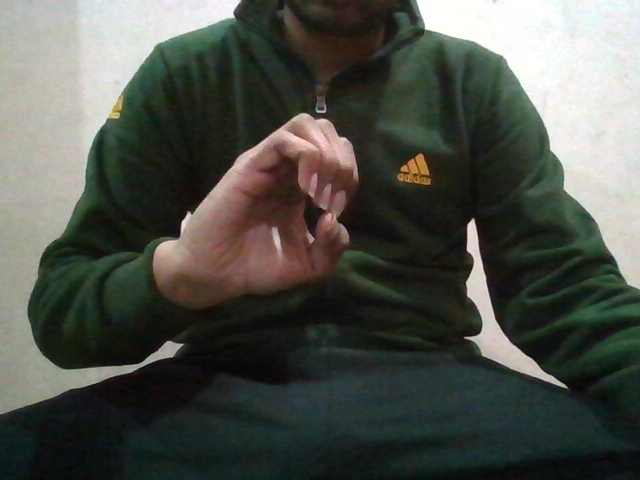O: (194, 97, 362, 290)
